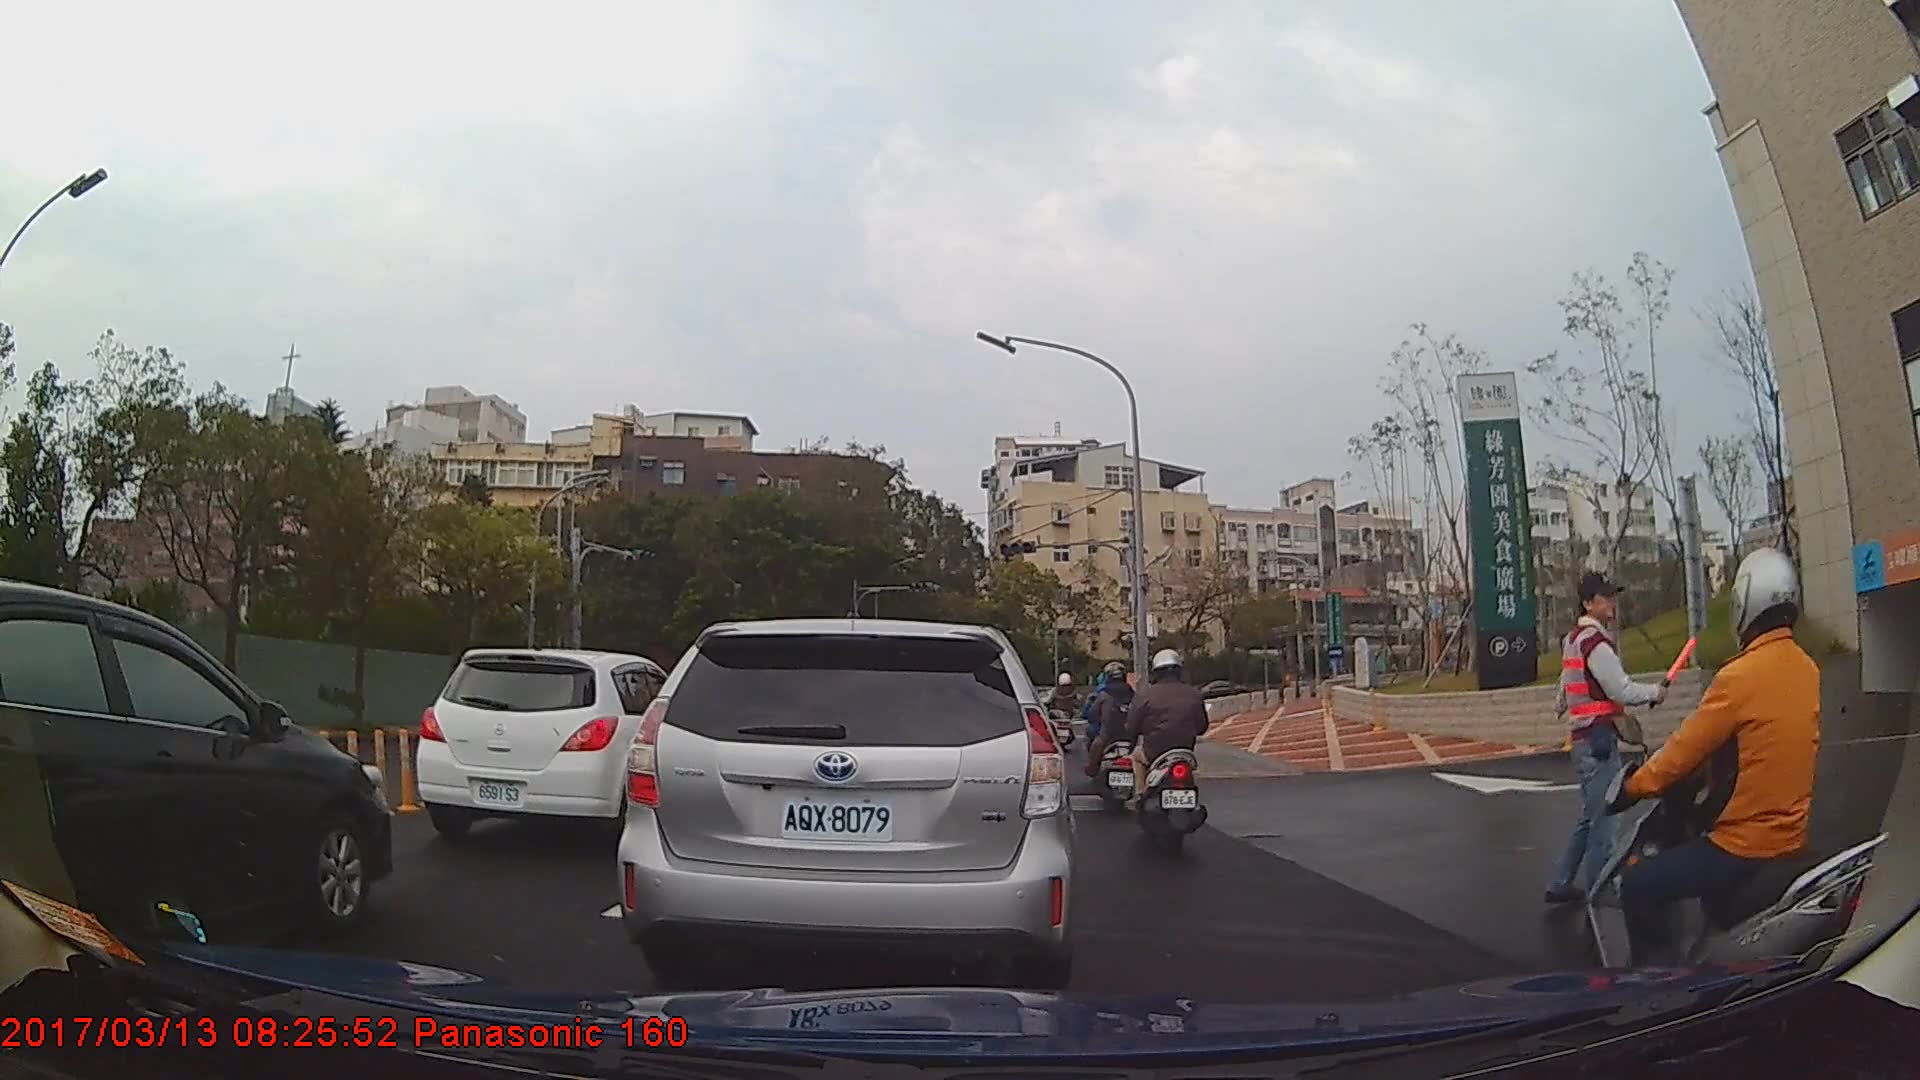pedestrian: (1546, 576, 1692, 915)
rider: (1546, 546, 1896, 1027), (1132, 647, 1209, 862), (1088, 662, 1143, 807), (1046, 671, 1079, 757)
vehicle: (618, 619, 1071, 984), (0, 579, 394, 961), (414, 649, 711, 845), (1183, 677, 1250, 710)
